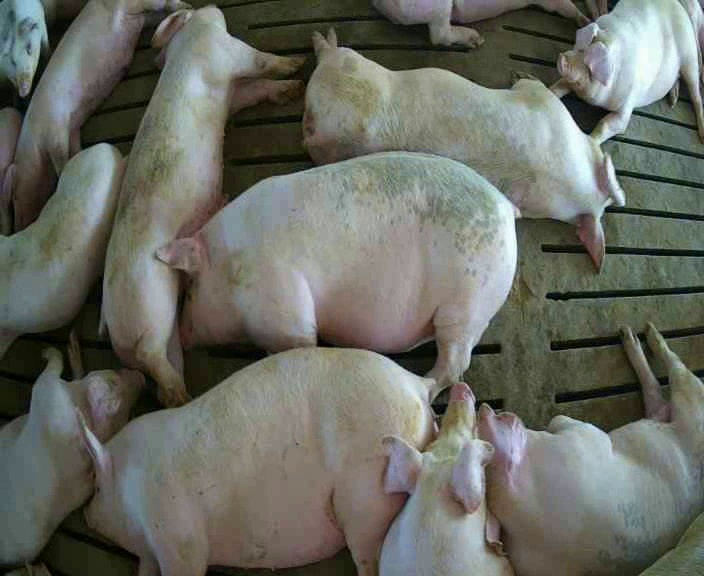pig: (157, 153, 516, 389), (80, 348, 434, 574), (102, 7, 301, 405), (304, 29, 624, 270), (479, 323, 703, 573), (15, 2, 185, 229), (0, 328, 143, 564), (0, 143, 124, 357), (380, 383, 512, 574), (551, 2, 703, 143)
